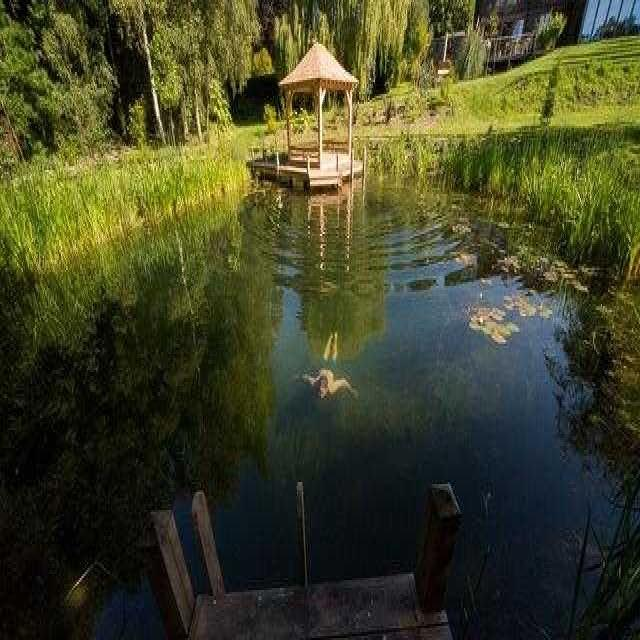Ponds: (6, 169, 640, 637)
